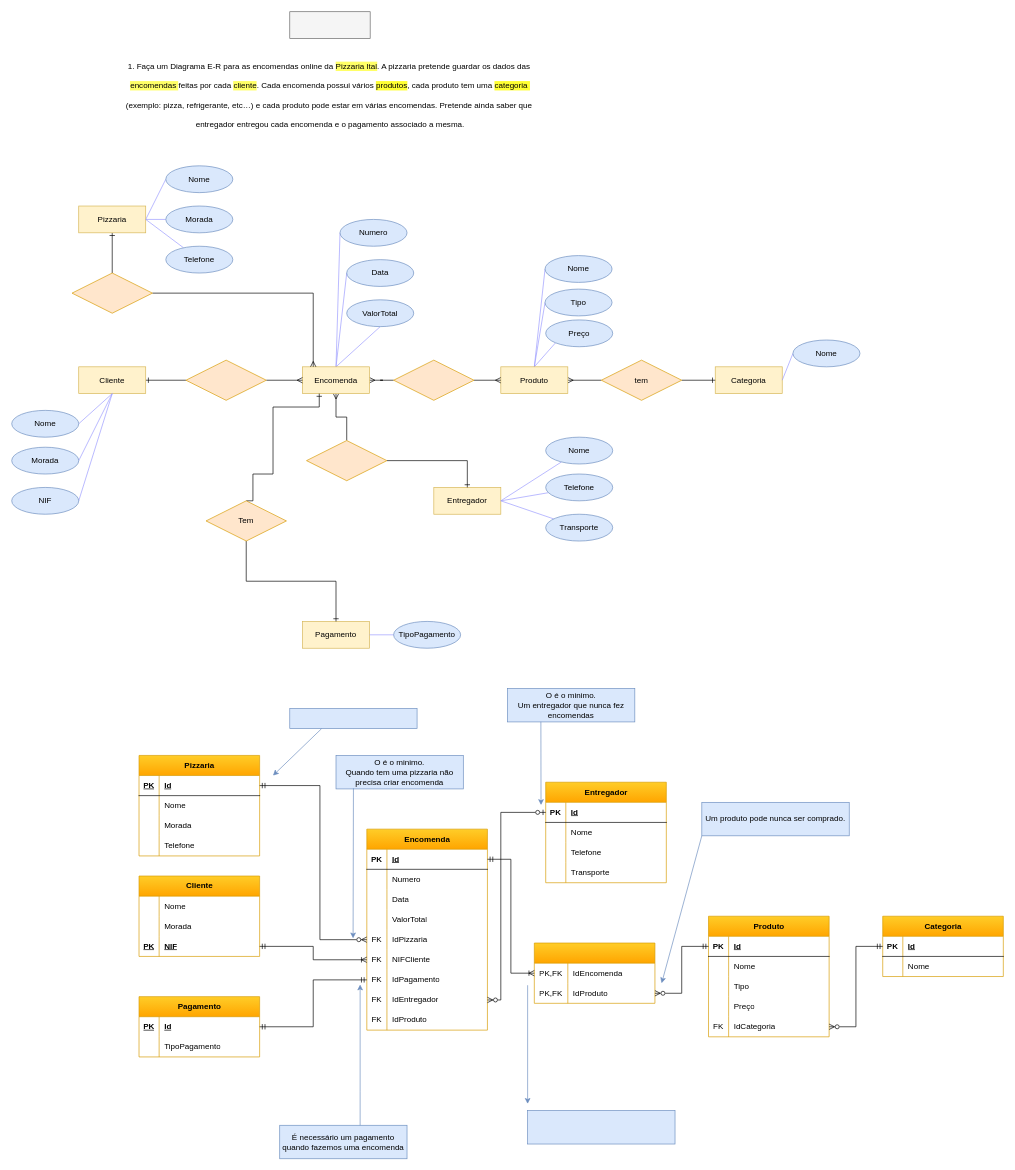
The diagram is 1015 pixels wide and 1170 high, and some of its shapes have lost their labels. The shapes that lost their labels are listed below. From the top down, each one's box as (x1, y1, x2, y2) in pixels, then its label:
(289, 11, 370, 39): Exercício 1
(71, 272, 152, 313): Contém
(185, 359, 266, 400): Faz
(393, 359, 474, 400): Possui
(306, 440, 387, 481): Contem
(289, 708, 417, 729): || não existe encomenda sem estar associadas a uma pizzaria
(534, 942, 655, 1003): Encomenda_Produto
(527, 1110, 675, 1144): Muitos com muitos. As pontas têm sempre 1 - 1 (min/max) || O centro com muitos
